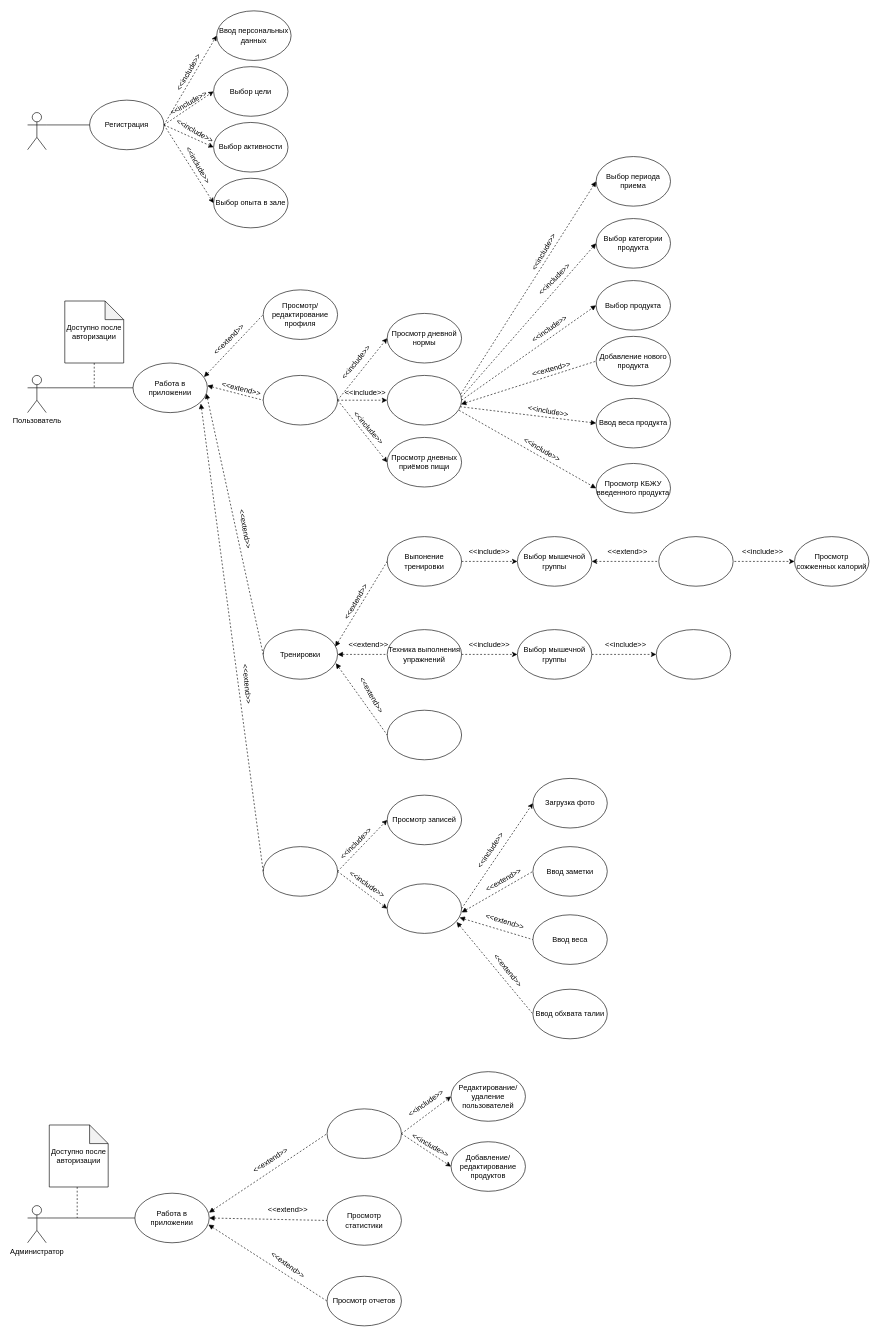
Image size: 880x1337. Some labels were removed from this diagram. The shapes that lost their labels are listed below. From the top down, each one's box as (x1, y1, x2, y2) in pixels, then its label:
(27, 112, 46, 150): Гость
(263, 375, 338, 425): Учет питания
(387, 375, 462, 425): Добавление приёма пищи
(658, 536, 733, 586): Выполнение подходов
(656, 629, 731, 679): Выбор упражнения
(387, 710, 462, 760): Просмотр истории тренировок
(263, 846, 338, 896): Прогресс
(387, 883, 462, 933): Добавление записи
(326, 1108, 401, 1158): Работа с базой данных
